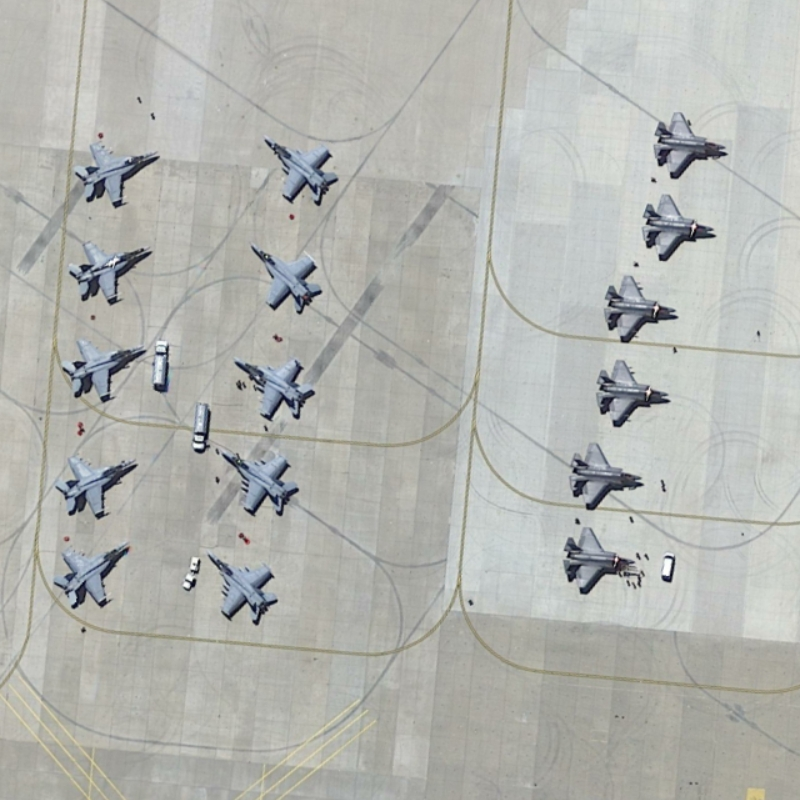A15: (591, 353, 672, 426), (561, 523, 640, 597), (564, 439, 646, 508), (600, 272, 678, 344), (649, 109, 728, 180), (639, 190, 716, 261)
A16: (210, 441, 306, 524), (259, 123, 347, 211), (202, 541, 284, 633), (63, 230, 154, 311), (69, 136, 165, 212), (53, 333, 154, 405), (243, 233, 326, 319), (53, 444, 141, 524), (51, 534, 135, 614), (228, 353, 322, 422)
